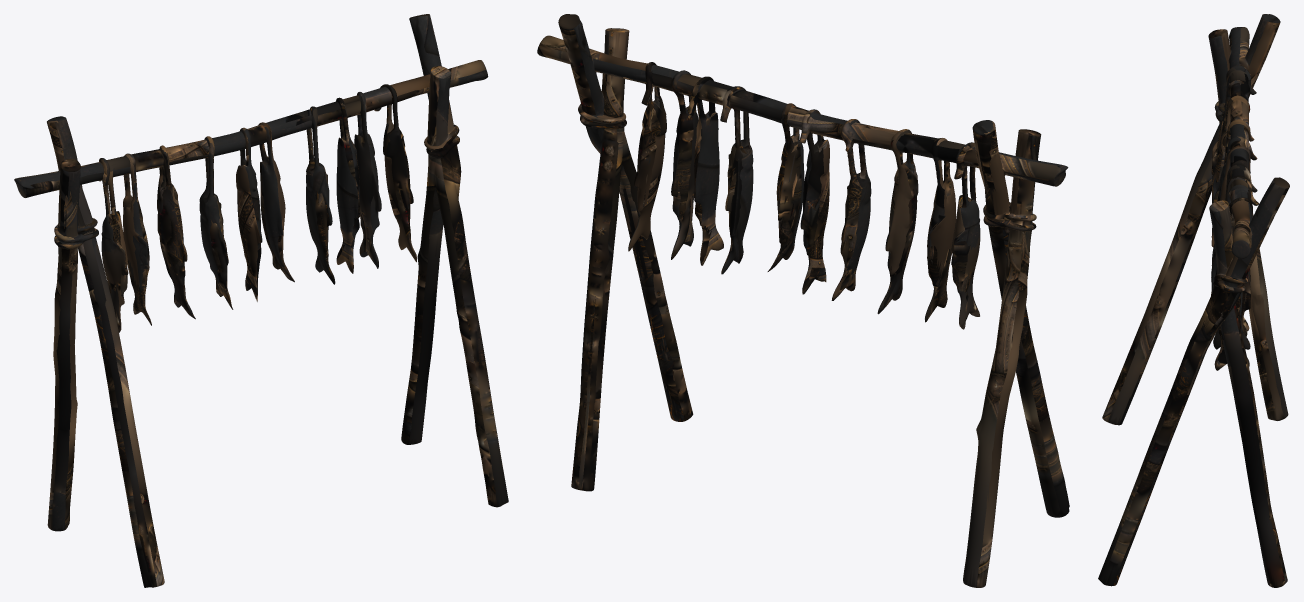
The model's file is FishPost.fbx.
The picture shows the model from 3 angles, left to right: view 1: azimuth 30°, elevation 25°; view 2: azimuth 150°, elevation 25°; view 3: azimuth 270°, elevation 25°; orthographic projection. The views are drawn at different scales.
Visible parts, largest first — view 1: FishPost, Fish8, Fish3, Fish10, Fish5, Fish9, Fish2, Fish7, Fish6, Fish1, Fish4; view 2: FishPost, Fish8, Fish5, Fish10, Fish3, Fish2, Fish9, Fish1, Fish6, Fish7, Fish4; view 3: FishPost, Fish10, Fish3, Fish9.
Part boxes in pixels (<box>): FishPost: <box>14,14,508,587</box>; Fish8: <box>336,134,360,273</box>; Fish3: <box>157,185,195,319</box>; Fish10: <box>383,125,416,262</box>; Fish5: <box>236,165,262,301</box>; Fish9: <box>354,123,381,268</box>; Fish2: <box>123,195,151,325</box>; Fish7: <box>306,161,335,284</box>; Fish6: <box>260,159,294,282</box>; Fish1: <box>101,211,128,332</box>; Fish4: <box>199,192,233,309</box>; FishPost: <box>537,14,1069,587</box>; Fish8: <box>694,111,723,265</box>; Fish5: <box>800,139,829,294</box>; Fish10: <box>628,100,666,251</box>; Fish3: <box>877,168,918,314</box>; Fish2: <box>925,178,955,322</box>; Fish9: <box>671,106,698,259</box>; Fish1: <box>951,195,980,329</box>; Fish6: <box>767,138,804,271</box>; Fish7: <box>721,138,753,274</box>; Fish4: <box>831,172,871,300</box>; FishPost: <box>1098,14,1289,587</box>; Fish10: <box>1213,268,1250,370</box>; Fish3: <box>1211,129,1226,265</box>; Fish9: <box>1211,218,1250,349</box>.
Size of the model in its own units: 185 by 160 by 67.83.
